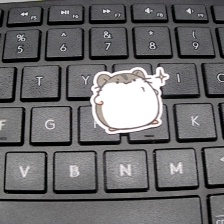mouse: (90, 65, 173, 135)
